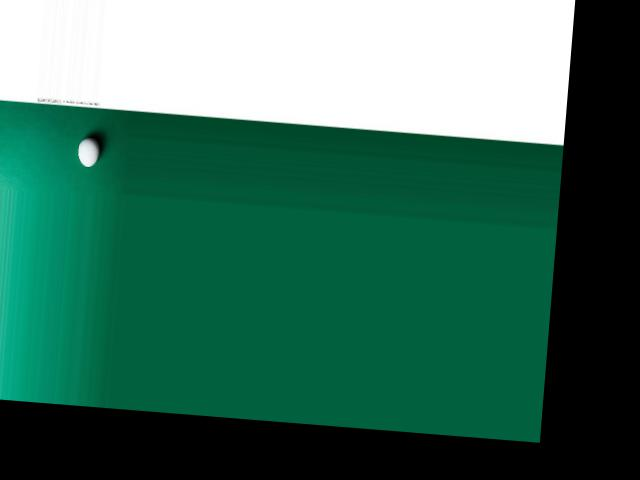egg: (75, 136, 99, 167)
